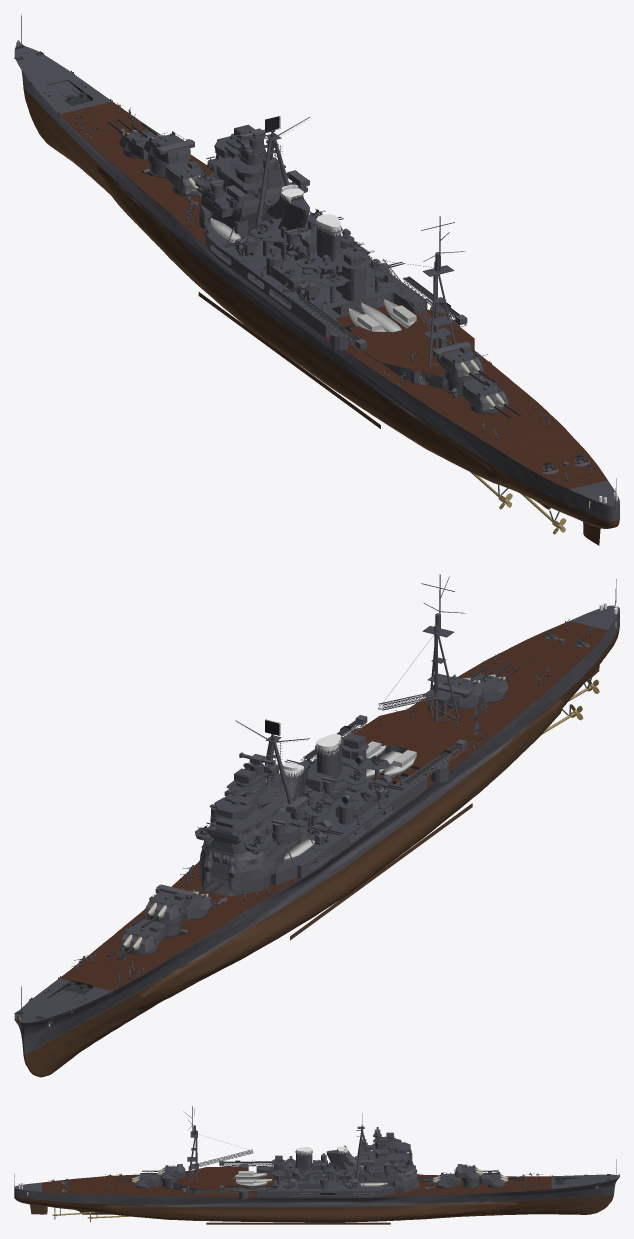
Rendered from takao.glb.
3 renders of one model, top to bottom at view 1: azimuth 30°, elevation 25°; view 2: azimuth 150°, elevation 25°; view 3: azimuth 270°, elevation 25°, orthographic. The views are drawn at different scales.
Parts seen in each view (by area): view 1: Blueprint lofted hull, aft-05.mesh, shelter-deck.mesh, mainmast.mesh, torpedo-rooms.mesh, foremast.mesh, after-funnel-01.mesh, main-2.yaw.mesh, main-4.yaw.mesh, main-5.yaw.mesh, bilge-keels.mesh, main-3.yaw.mesh (+1 smaller); view 2: Blueprint lofted hull, aft-05.mesh, shelter-deck.mesh, mainmast.mesh, torpedo-rooms.mesh, after-funnel-01.mesh, main-2.yaw.mesh, bridge-03.mesh, bridge-02.mesh, main-1.yaw.mesh, foremast.mesh, bridge-base-01.mesh (+5 smaller); view 3: Blueprint lofted hull, aft-05.mesh, shelter-deck.mesh, torpedo-rooms.mesh, bilge-keels.mesh, after-funnel-01.mesh, mainmast.mesh, foremast.mesh, catapult-starboard.mesh, main-2.yaw.mesh, catapult-port.mesh, main-4.yaw.mesh (+13 smaller).
Boxes of the visible parts, x1,y1,x2,y2 form: Blueprint lofted hull: (14, 40, 619, 528); aft-05.mesh: (330, 309, 478, 377); shelter-deck.mesh: (204, 222, 426, 325); mainmast.mesh: (421, 216, 465, 366); torpedo-rooms.mesh: (204, 240, 391, 324); foremast.mesh: (235, 117, 309, 247); after-funnel-01.mesh: (316, 214, 341, 279); main-2.yaw.mesh: (144, 131, 194, 163); main-4.yaw.mesh: (432, 341, 483, 377); main-5.yaw.mesh: (462, 376, 508, 410); bilge-keels.mesh: (198, 292, 380, 428); main-3.yaw.mesh: (165, 159, 207, 192); Blueprint lofted hull: (14, 605, 619, 1077); aft-05.mesh: (351, 702, 478, 771); shelter-deck.mesh: (275, 759, 426, 873); mainmast.mesh: (421, 574, 465, 721); torpedo-rooms.mesh: (297, 791, 409, 878); after-funnel-01.mesh: (316, 734, 344, 801); main-2.yaw.mesh: (144, 884, 194, 920); bridge-03.mesh: (200, 840, 297, 873); bridge-02.mesh: (199, 842, 297, 883); main-1.yaw.mesh: (119, 917, 166, 951); foremast.mesh: (235, 720, 309, 841); bridge-base-01.mesh: (199, 864, 270, 896); Blueprint lofted hull: (14, 1174, 619, 1222); aft-05.mesh: (173, 1165, 248, 1193); shelter-deck.mesh: (257, 1166, 394, 1191); torpedo-rooms.mesh: (274, 1191, 381, 1197); bilge-keels.mesh: (206, 1222, 390, 1224); after-funnel-01.mesh: (293, 1147, 312, 1180); mainmast.mesh: (183, 1106, 198, 1182); foremast.mesh: (353, 1113, 369, 1184); catapult-starboard.mesh: (219, 1185, 277, 1191); main-2.yaw.mesh: (454, 1164, 479, 1178); catapult-port.mesh: (219, 1160, 273, 1166); main-4.yaw.mesh: (161, 1164, 185, 1178).
Bounding box in the file's own units: 23.22 × 40.22 × 204.
15 materials, 11 textured.
